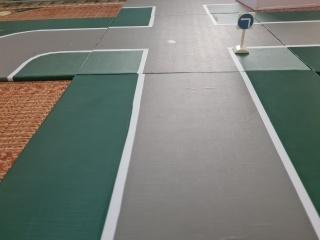left: (237, 12, 254, 31)
